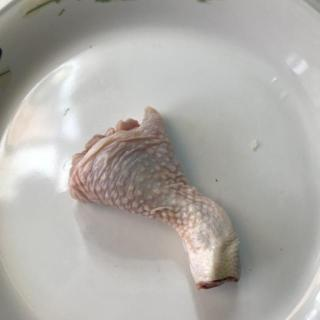Ayam: (68, 106, 242, 292)
